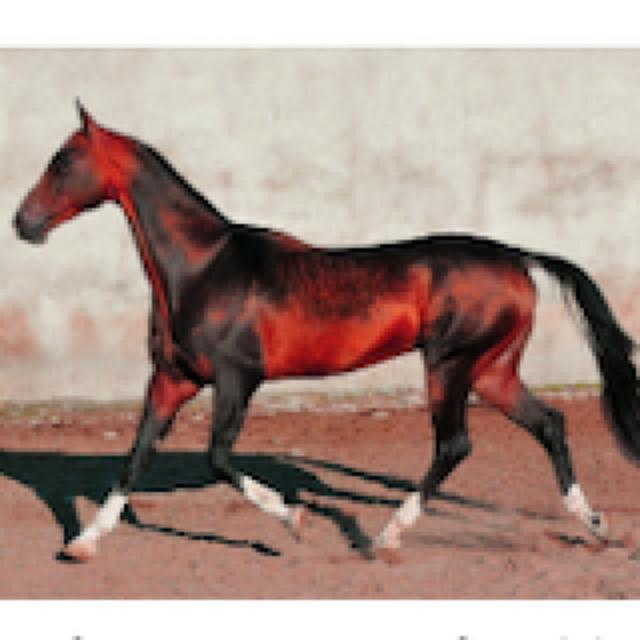Horse: (0, 88, 636, 568)
